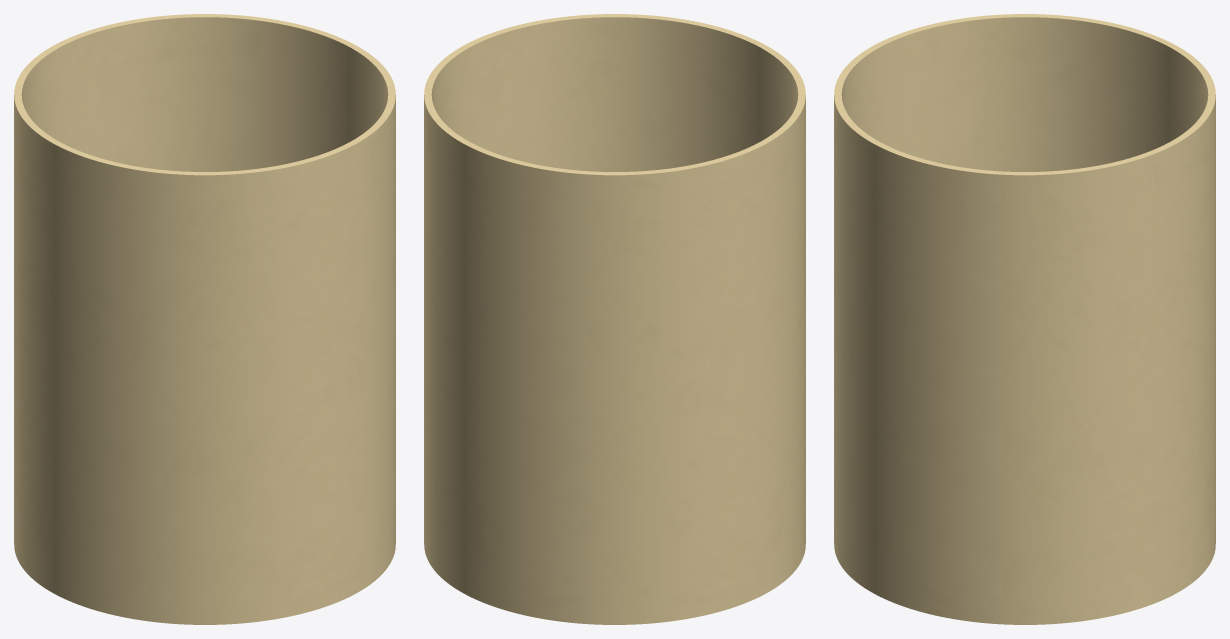
The model's file is DomesFoot_MATTBRASS.glb.
The picture shows the model from 3 angles, left to right: view 1: azimuth 30°, elevation 25°; view 2: azimuth 150°, elevation 25°; view 3: azimuth 270°, elevation 25°; orthographic projection.
Parts seen in each view (by area): view 1: Object002; view 2: Object002; view 3: Object002.
Boxes of the visible parts, bbox=[...] form: Object002: bbox=[14, 14, 395, 624]; Object002: bbox=[424, 14, 805, 624]; Object002: bbox=[834, 14, 1215, 624].
Size of the model in its own units: 0.1 by 0.13 by 0.1.
Materials: 1 (1 with a texture image).
